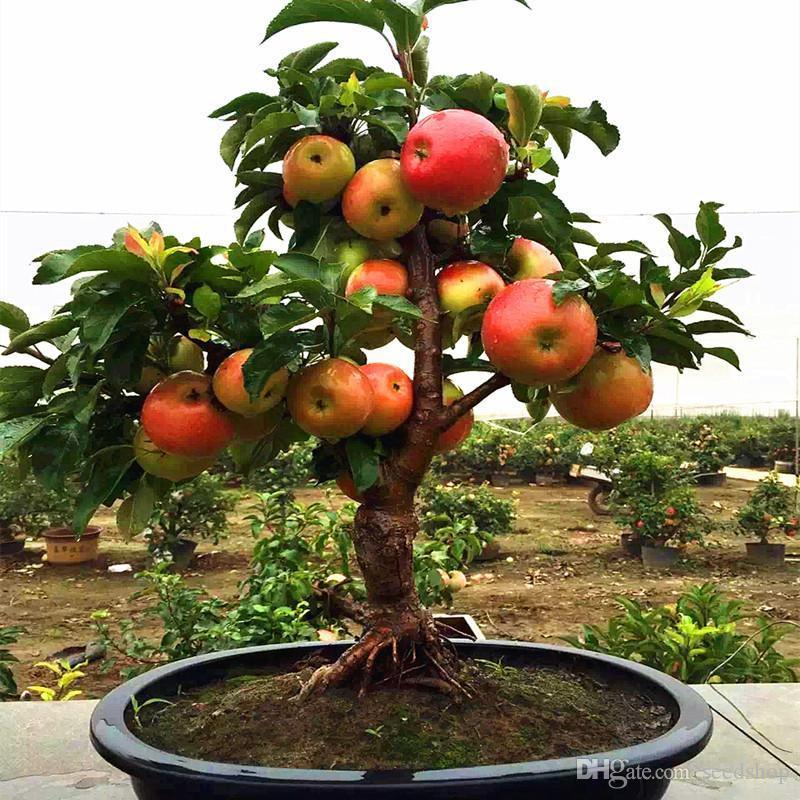apple: (478, 283, 596, 399), (397, 106, 508, 215), (549, 339, 653, 432), (138, 370, 236, 464), (288, 357, 372, 443), (337, 157, 423, 241), (279, 135, 353, 206), (208, 348, 275, 414), (358, 362, 412, 437), (433, 259, 505, 314), (343, 257, 408, 298), (505, 236, 562, 281)
